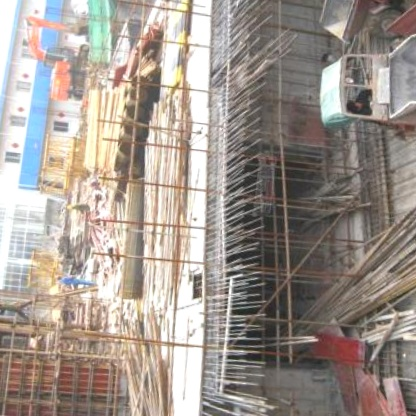yellow: (65, 204, 74, 212)
